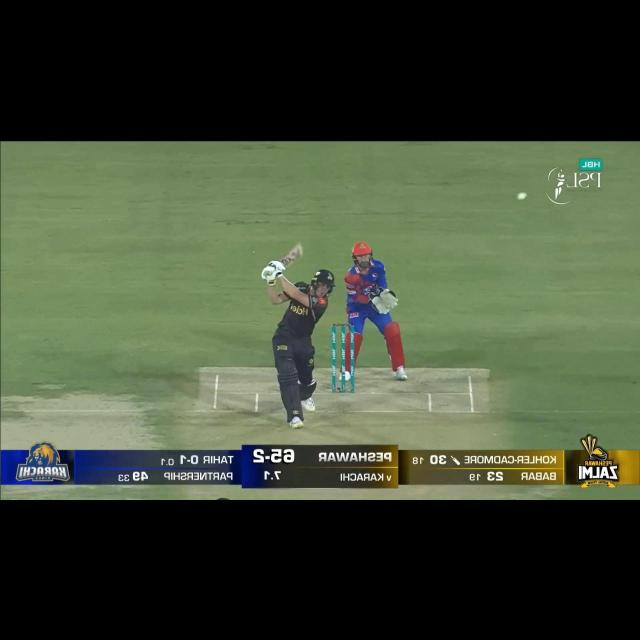bat: (280, 242, 306, 269)
toe: (296, 243, 305, 257)
